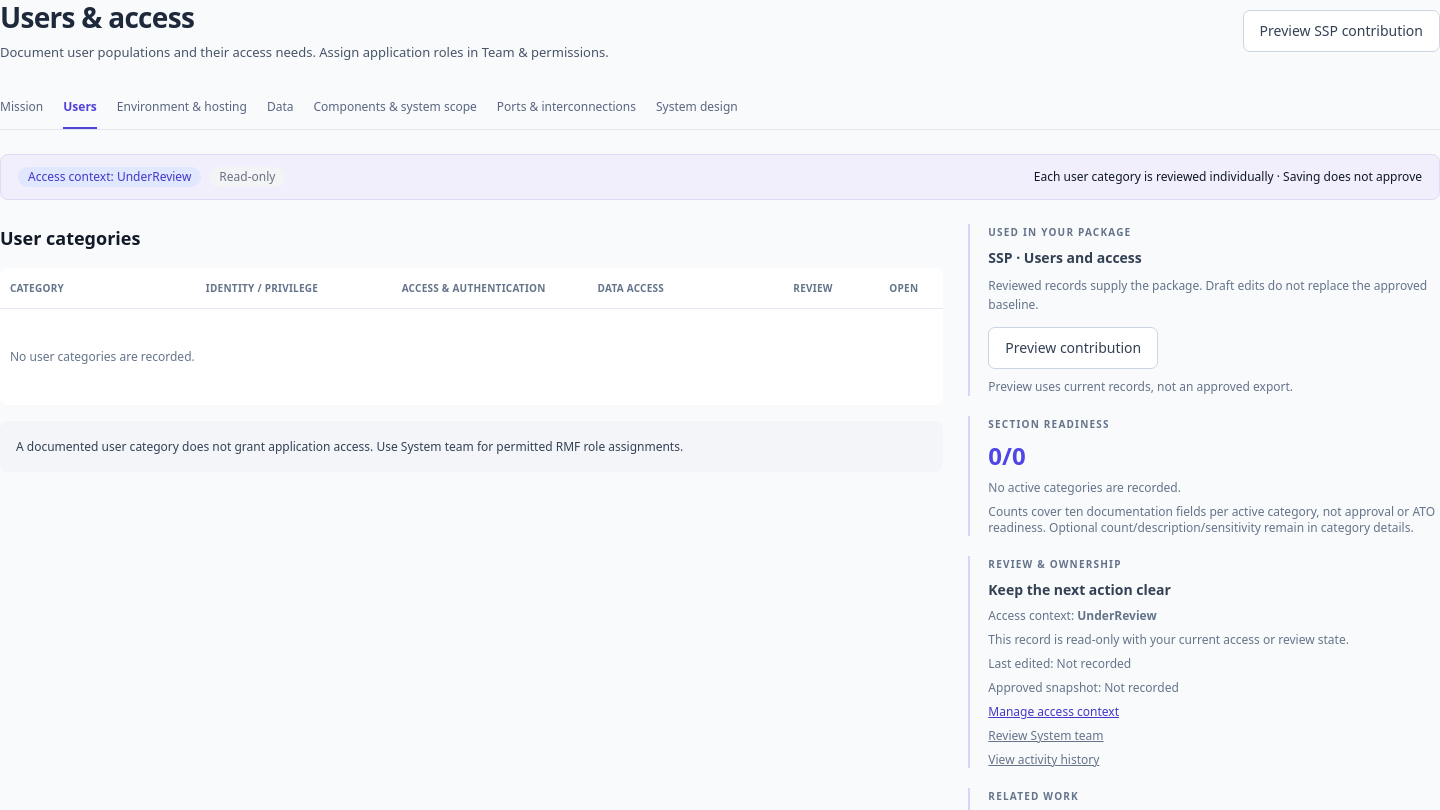
Test: server-authoritative profile editing (#968) › labels Users access-context approval separately from individual category review
The width and height of the screenshot is (1440, 810).
Step 1. Click the button "Manage access context" → (1054, 712), box [988,704,1119,720]
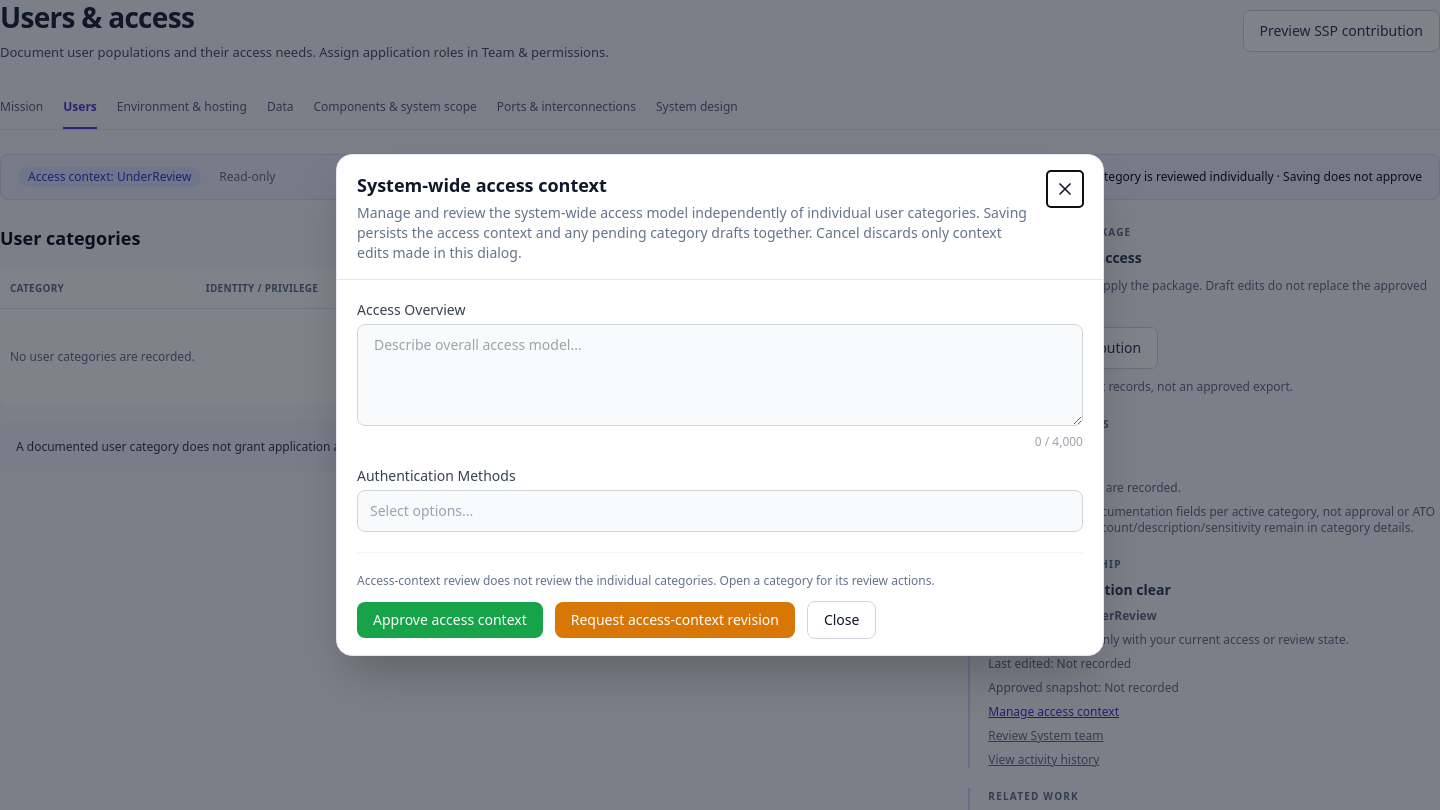
Step 2. Click the button "Approve access context" → (450, 620), box [357,602,543,638]
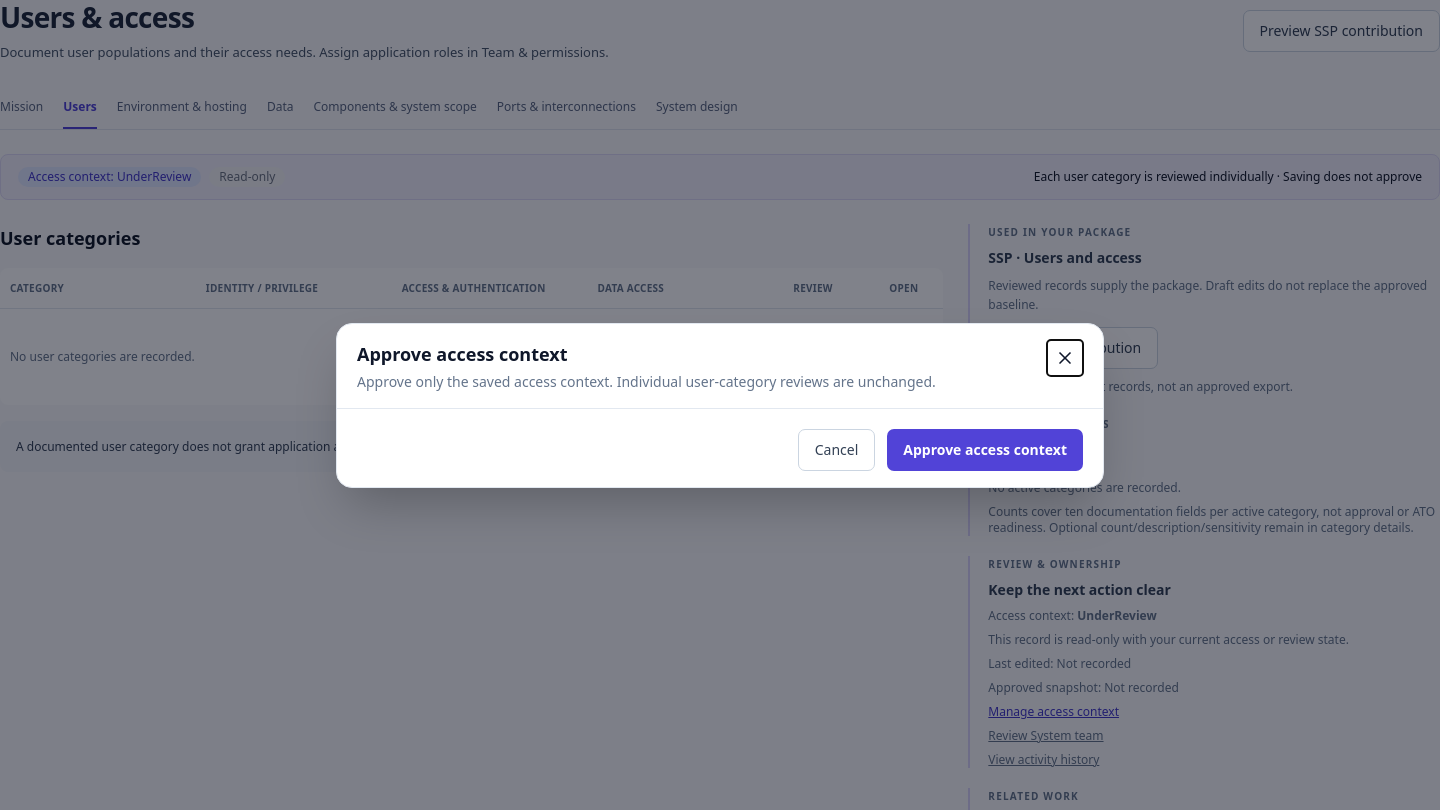
Check: the dialog shows "Individual user-category reviews are unchanged.", box [357,372,936,390]
Step 3. Click the button "Approve access context" → (985, 450), box [887,428,1083,470]
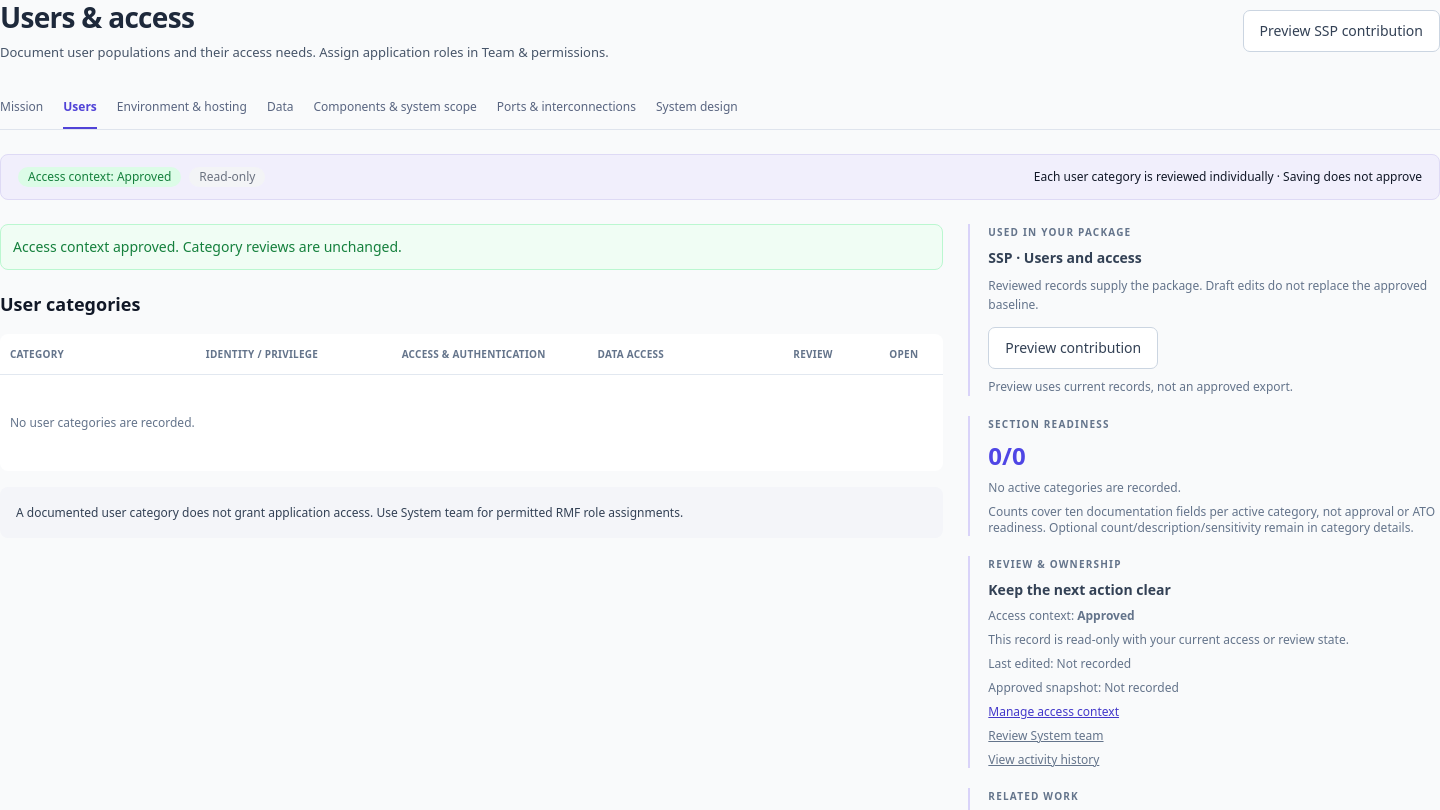
Check: the text "Access context approved. Category reviews are unchanged." is shown, box [0,224,943,270]
